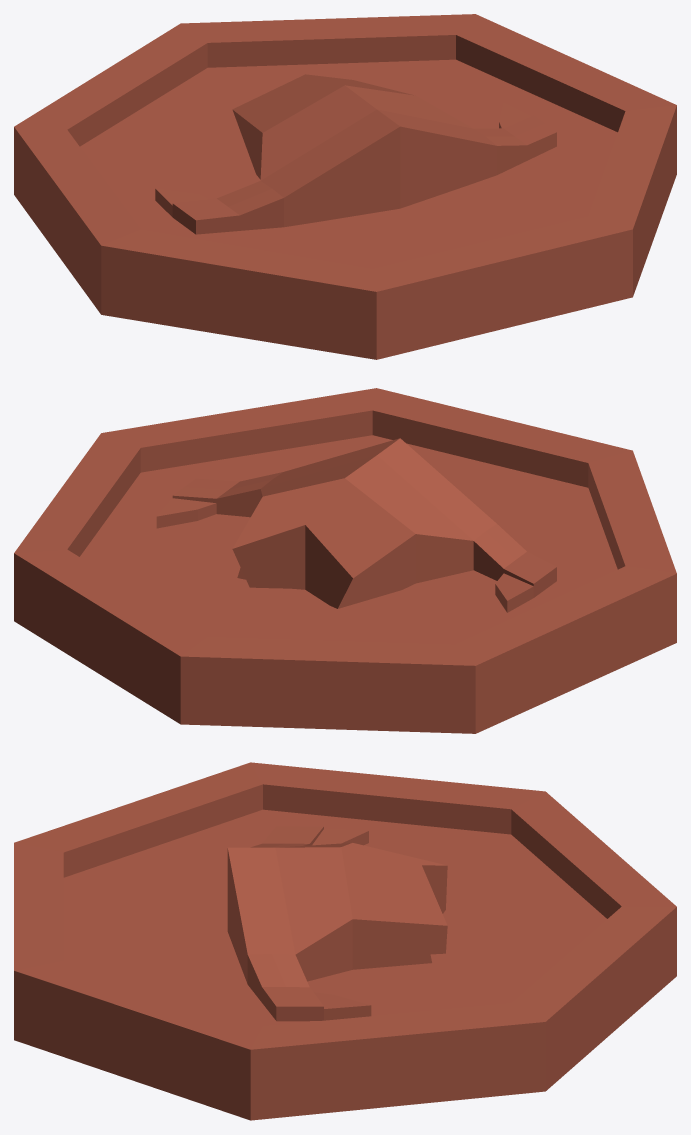
Rendered from Small_coin.fbx.
The picture shows the model from 3 angles, top to bottom: view 1: azimuth 30°, elevation 25°; view 2: azimuth 150°, elevation 25°; view 3: azimuth 270°, elevation 25°; orthographic projection. The views are drawn at different scales.
Parts seen in each view (by area): view 1: Small_coin; view 2: Small_coin; view 3: Small_coin.
Boxes of the visible parts, x1,y1,x2,y2 form: Small_coin: (14,14,676,359); Small_coin: (14,388,676,733); Small_coin: (14,762,676,1120).
Size of the model in its own units: 110 by 33.65 by 107.
